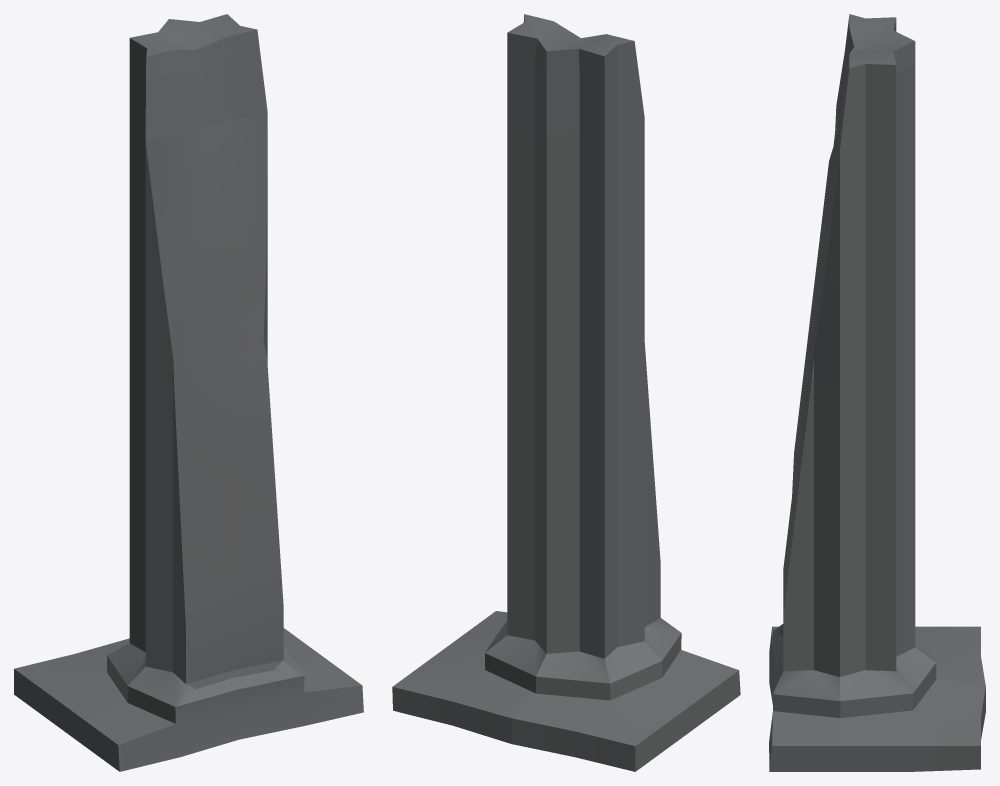
The model's file is PillarBroken4.fbx.
The picture shows the model from 3 angles, left to right: view 1: azimuth 30°, elevation 25°; view 2: azimuth 150°, elevation 25°; view 3: azimuth 270°, elevation 25°; orthographic projection.
Visible parts, largest first — view 1: M. Pillar 2; view 2: M. Pillar 2; view 3: M. Pillar 2.
Boxes of the visible parts, left/top/right/bottom form: M. Pillar 2: left=14, top=14, right=363, bottom=771; M. Pillar 2: left=392, top=14, right=740, bottom=771; M. Pillar 2: left=769, top=14, right=985, bottom=771.
Bounding box in the file's own units: 358 × 939 × 275.
